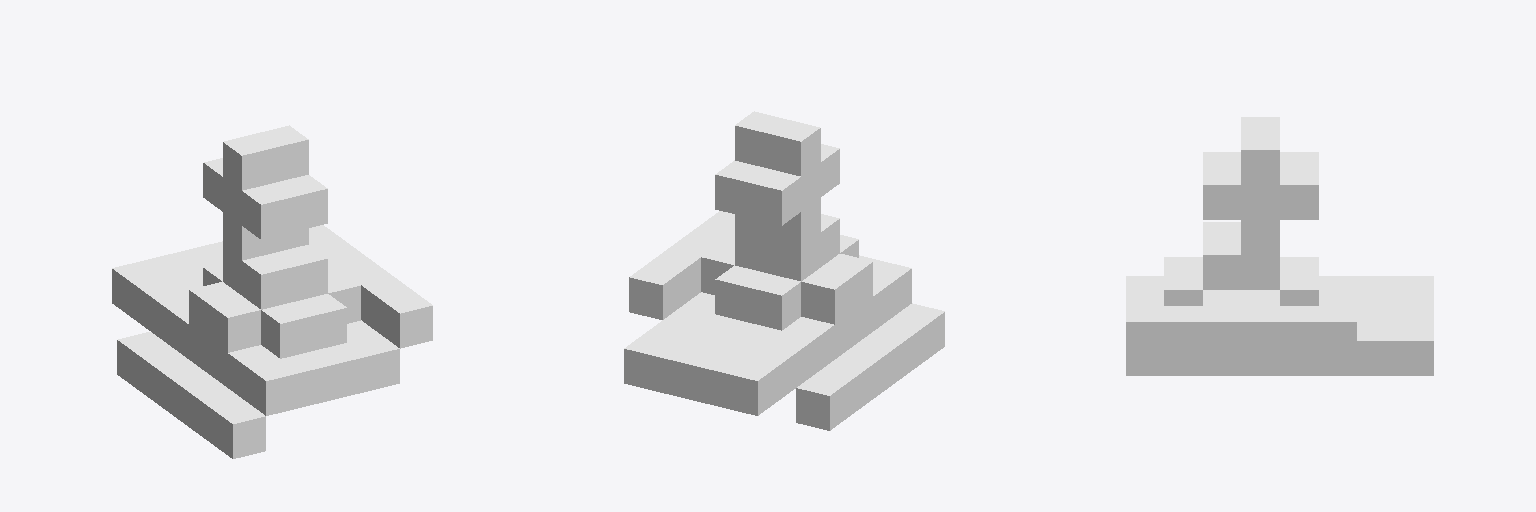
The model's file is Extra-6-UVintruder_LandingPod_R.obj.
3 renders of one model, left to right at view 1: azimuth 30°, elevation 25°; view 2: azimuth 150°, elevation 25°; view 3: azimuth 270°, elevation 25°, orthographic.
Parts seen in each view (by area): view 1: UVintruder_LandingPod_R; view 2: UVintruder_LandingPod_R; view 3: UVintruder_LandingPod_R.
Boxes of the visible parts, <box> form: UVintruder_LandingPod_R: <box>112,125,432,458</box>; UVintruder_LandingPod_R: <box>624,111,944,430</box>; UVintruder_LandingPod_R: <box>1126,117,1433,375</box>.
Size of the model in its own units: 0.6 by 0.7 by 0.8.